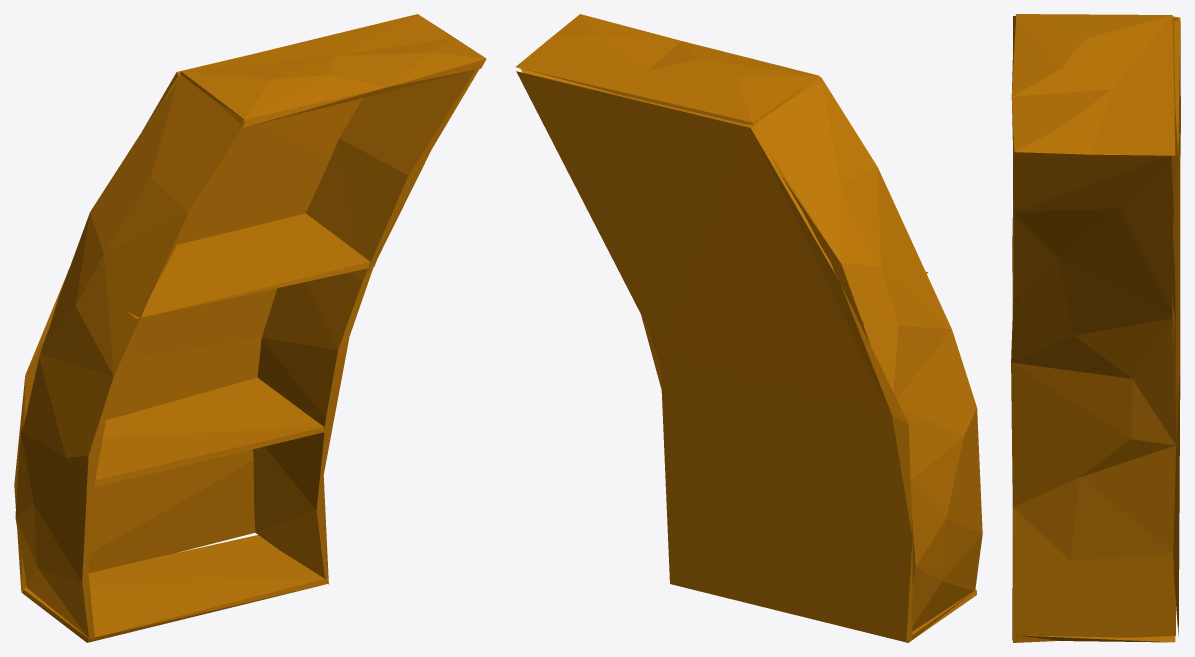
File: stm_env_ShelfNew.fbx
The picture shows the model from 3 angles, left to right: view 1: azimuth 30°, elevation 25°; view 2: azimuth 150°, elevation 25°; view 3: azimuth 270°, elevation 25°; orthographic projection. The views are drawn at different scales.
Parts seen in each view (by area): view 1: Cube_1; view 2: Cube_1; view 3: Cube_1.
Boxes of the visible parts, box(x1,y1,x2,y2) form: Cube_1: box(14, 14, 486, 642); Cube_1: box(515, 14, 982, 642); Cube_1: box(1011, 14, 1180, 642).
Bounding box in the file's own units: 700 × 799 × 209.
